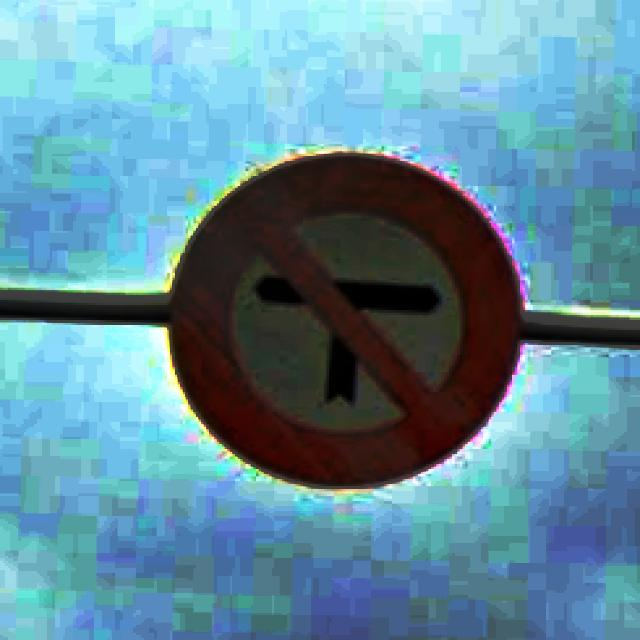noturnleftright: (165, 149, 522, 486)
